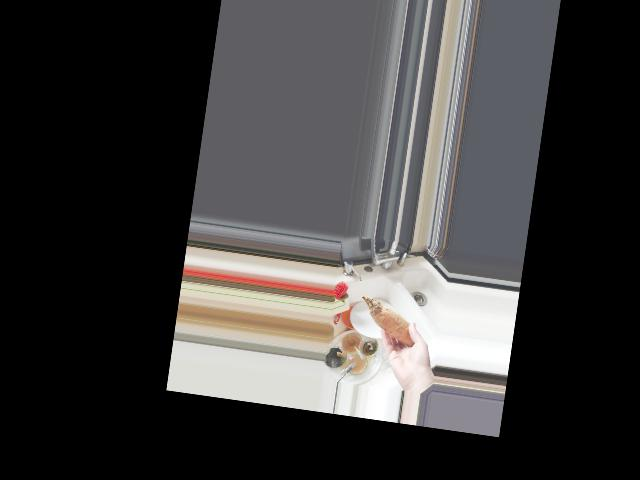sweet_potato: (354, 295, 424, 351)
